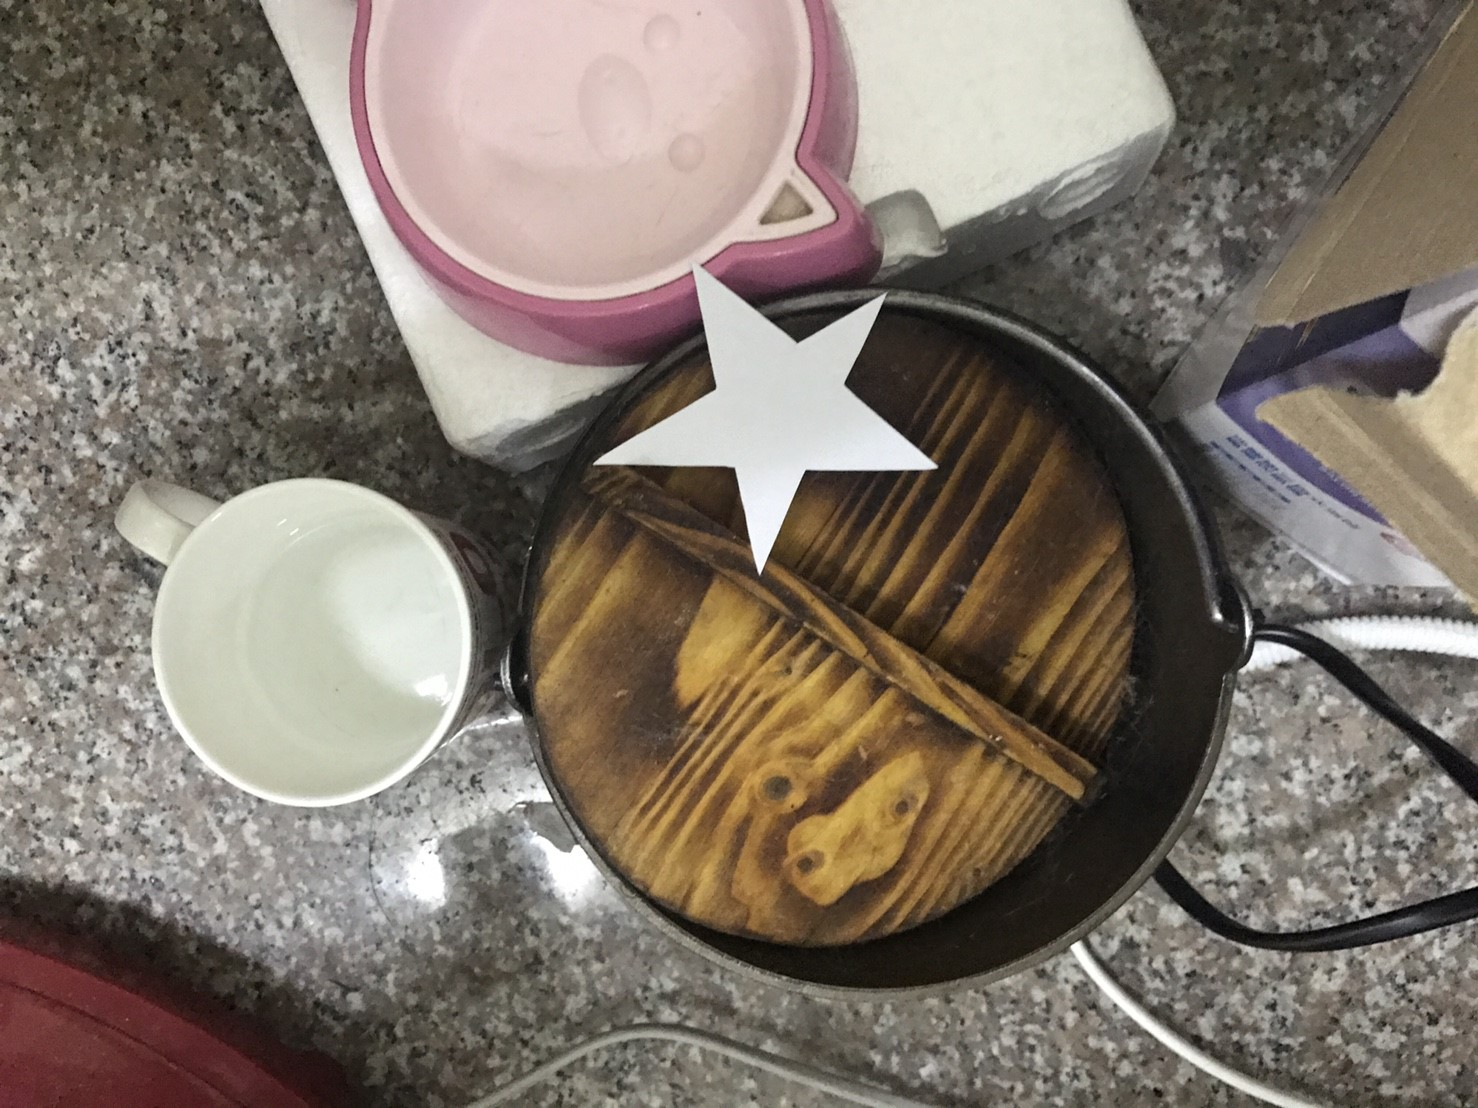star: (576, 258, 957, 591)
